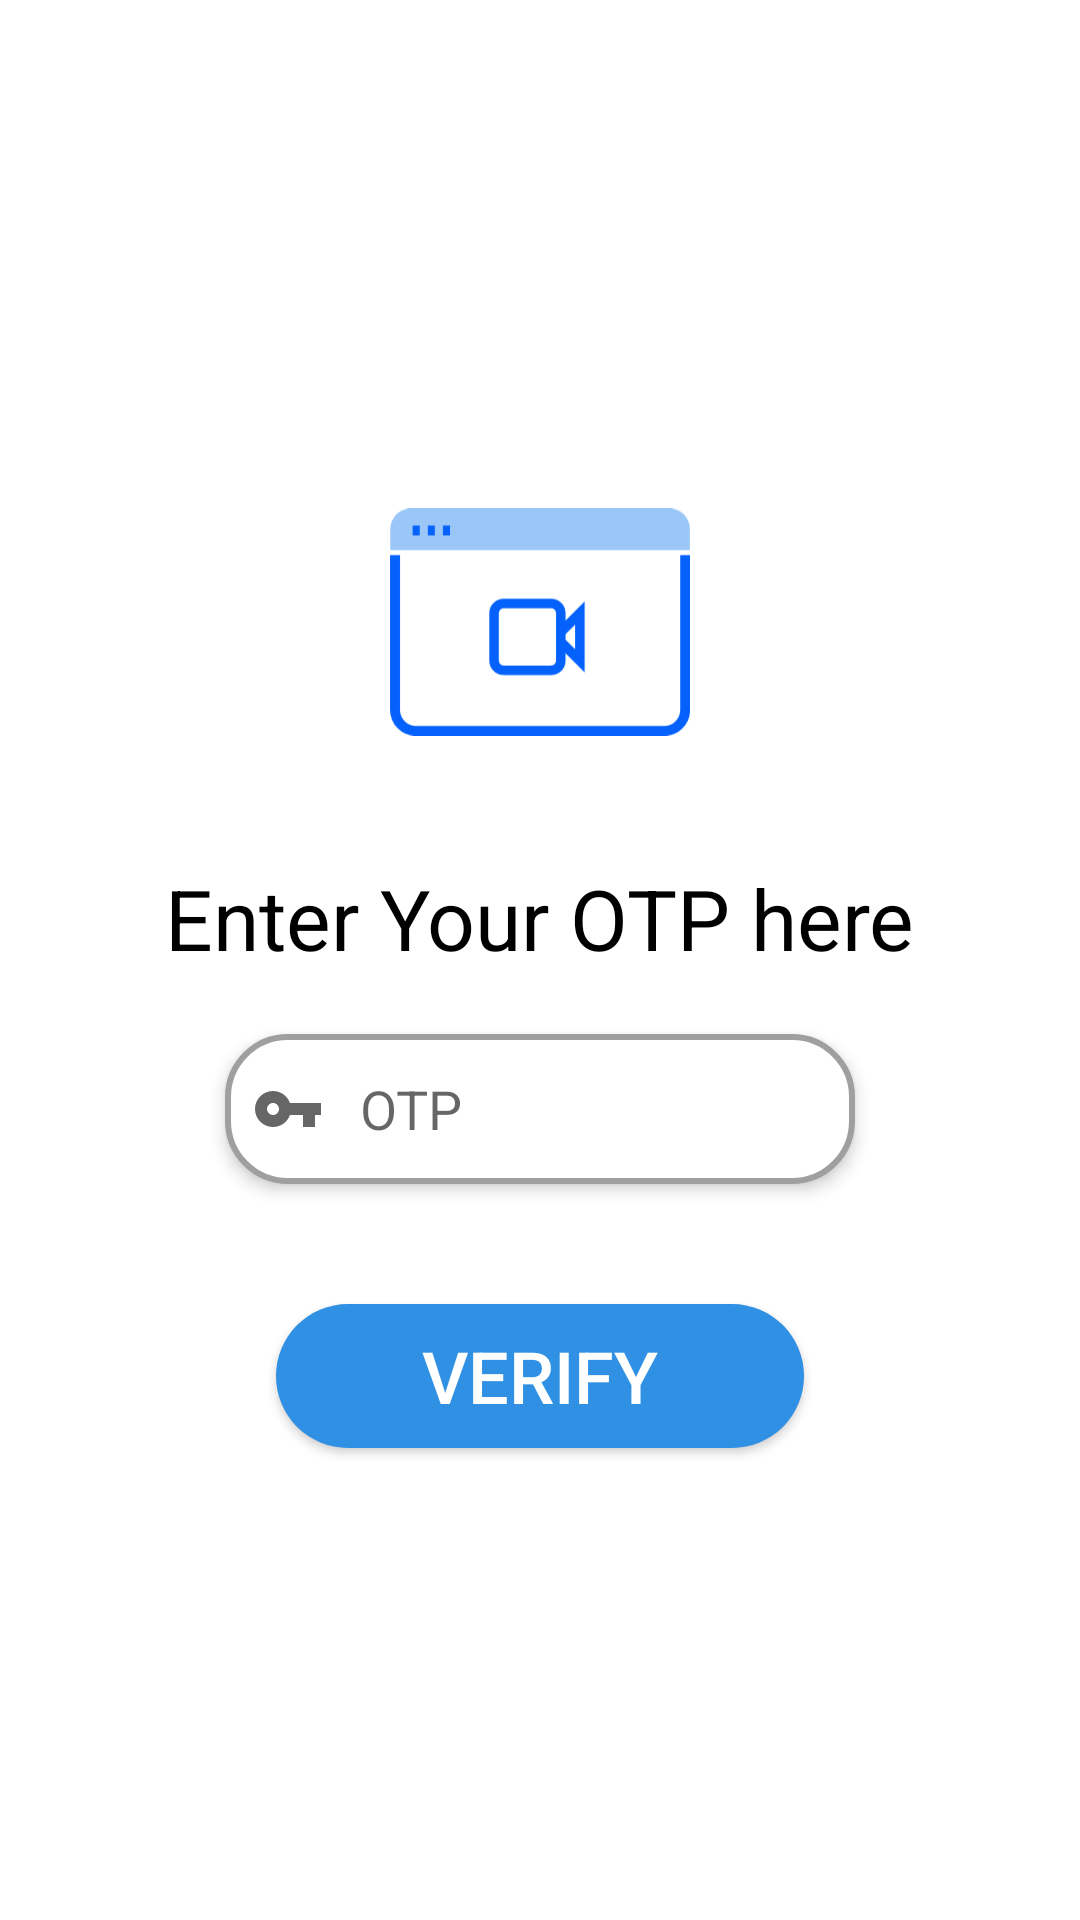

Locate icon controls on the screen. Image size 1080 x 1920, boxes as [left=x1, top=y1, right=x2, bottom=y2].
zoomus: [left=390, top=508, right=690, bottom=736]
